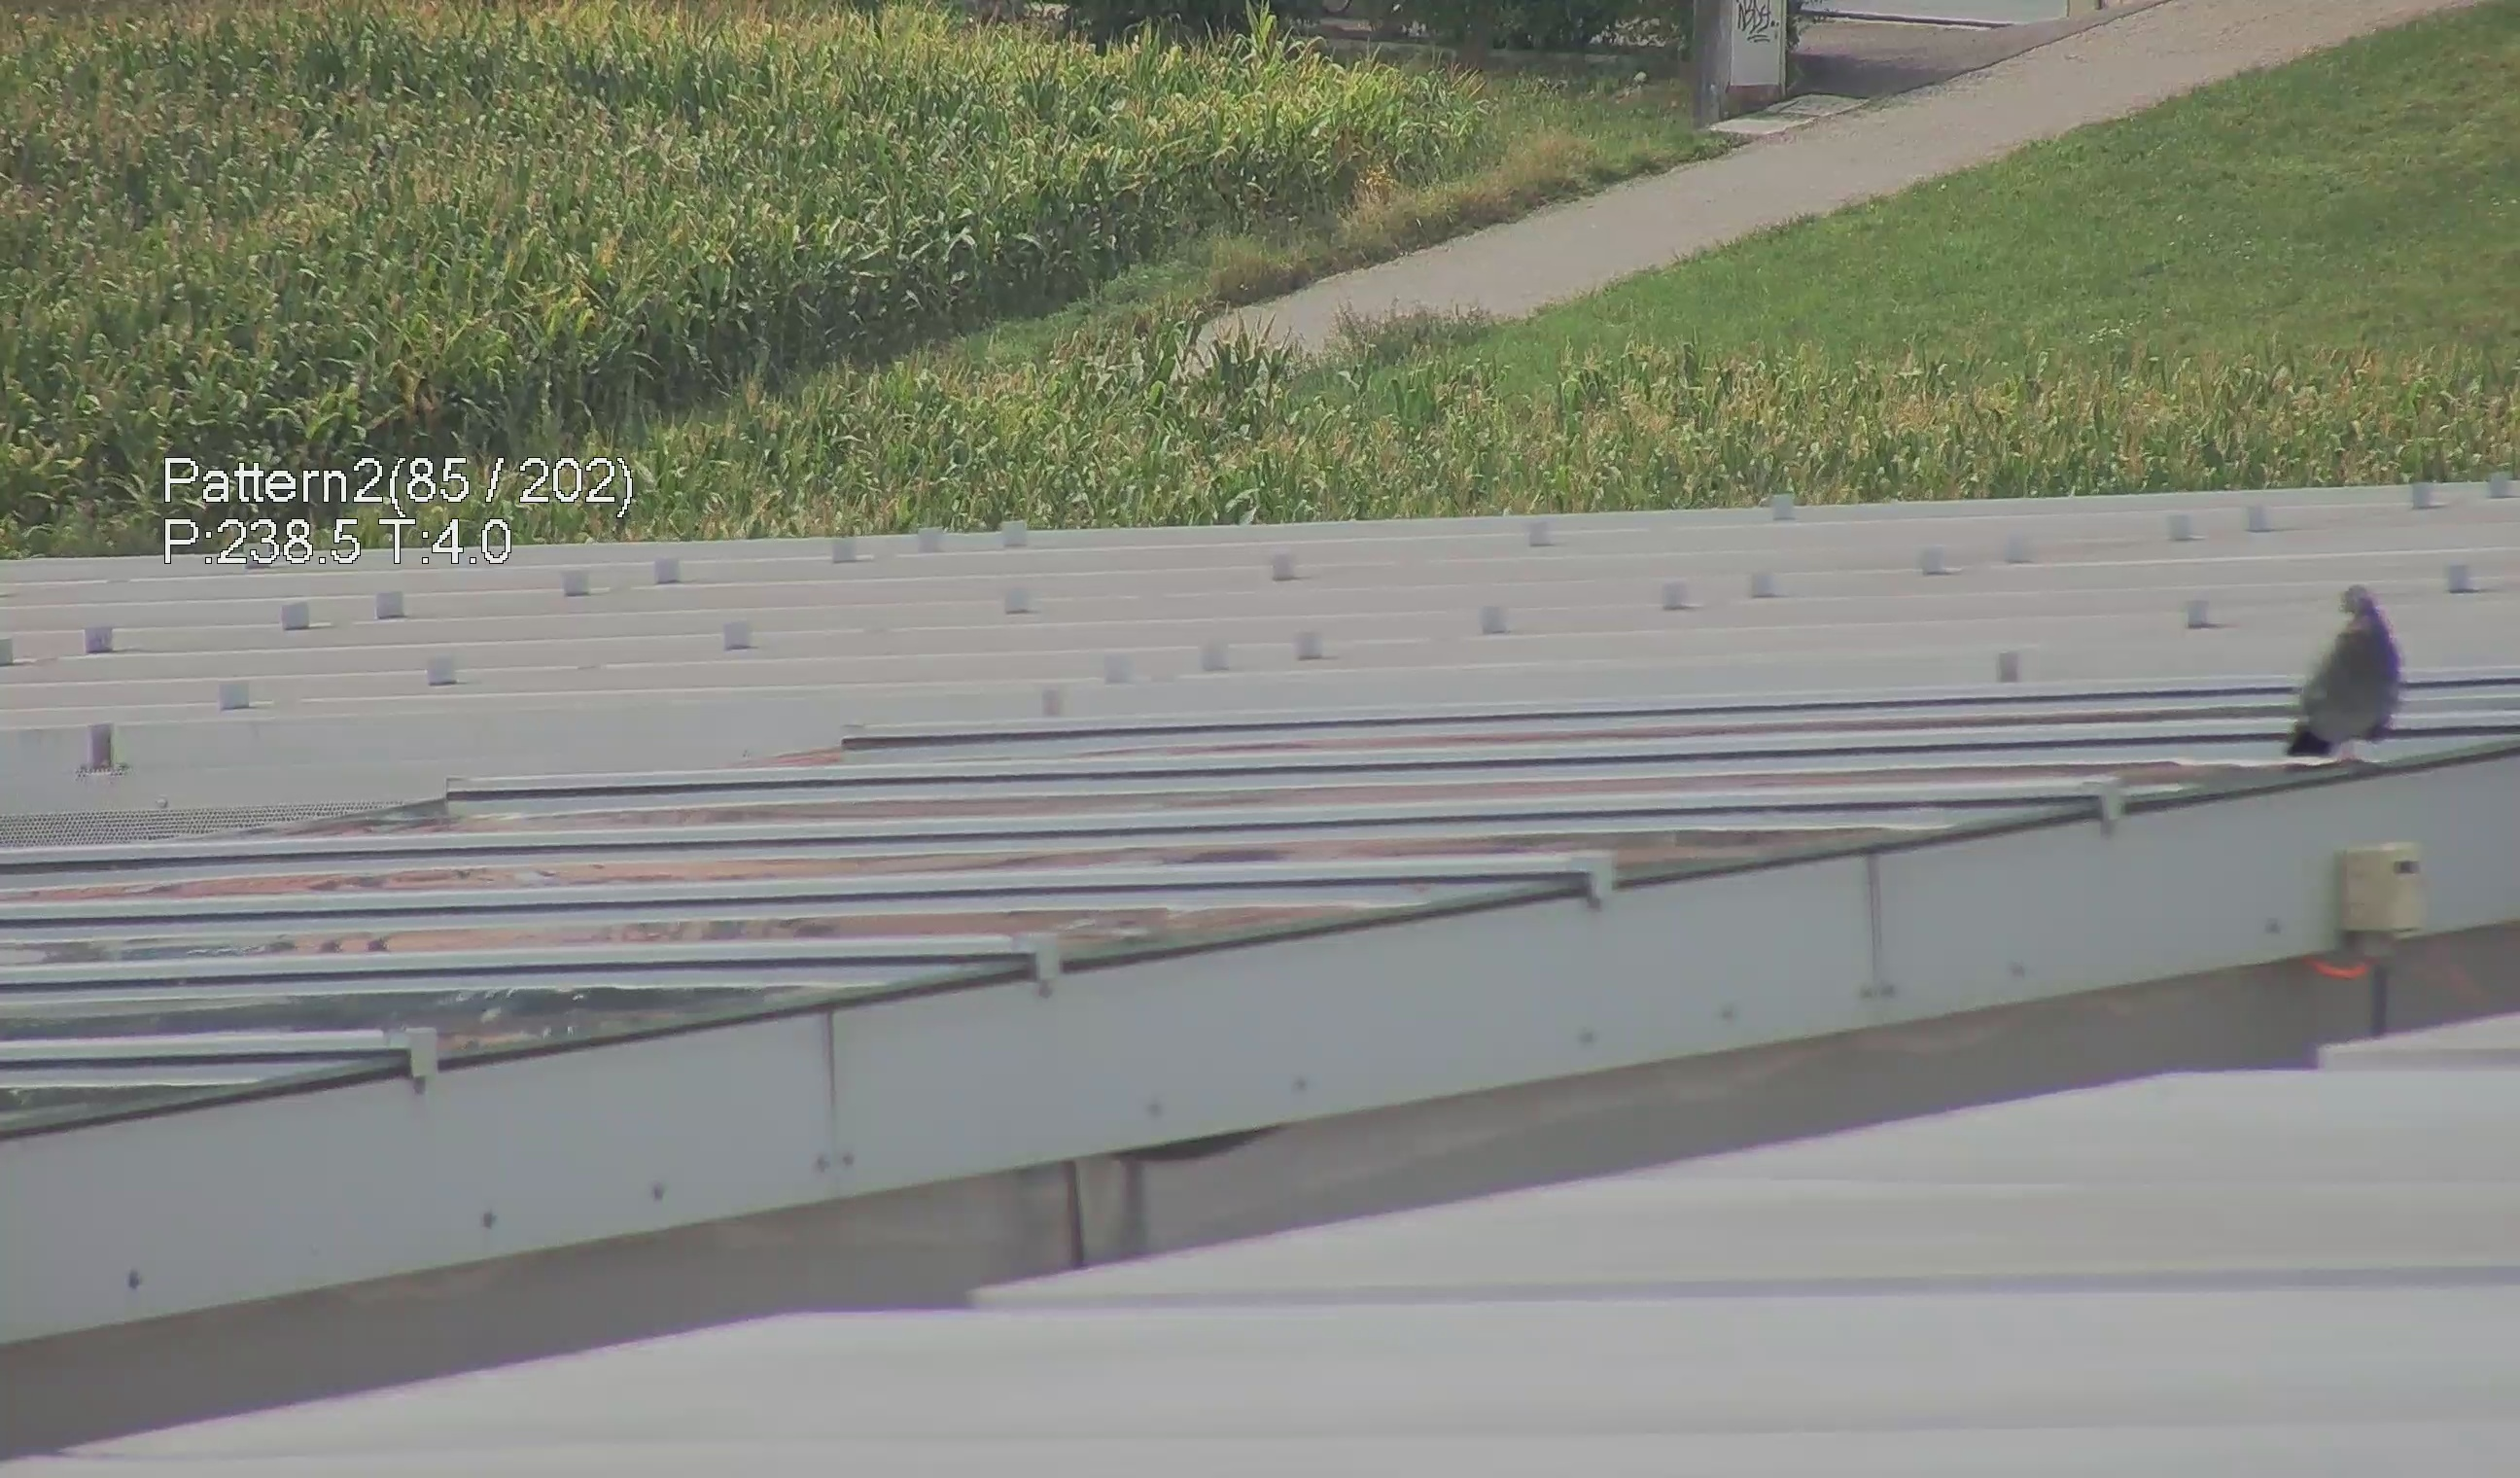Pigeon: (2284, 574, 2425, 765)
